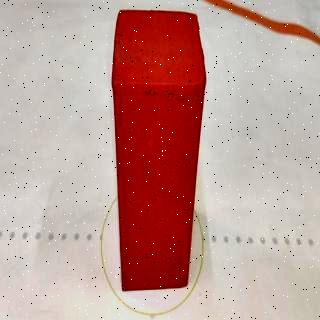redbox: (110, 7, 206, 292)
